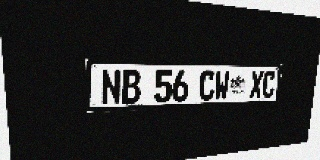5: (155, 70, 172, 103)
6: (172, 70, 189, 102)
B: (122, 70, 141, 104)
C: (199, 70, 215, 101), (262, 71, 276, 98)
N: (101, 69, 121, 105)
W: (214, 70, 230, 100)
X: (249, 71, 264, 99)
